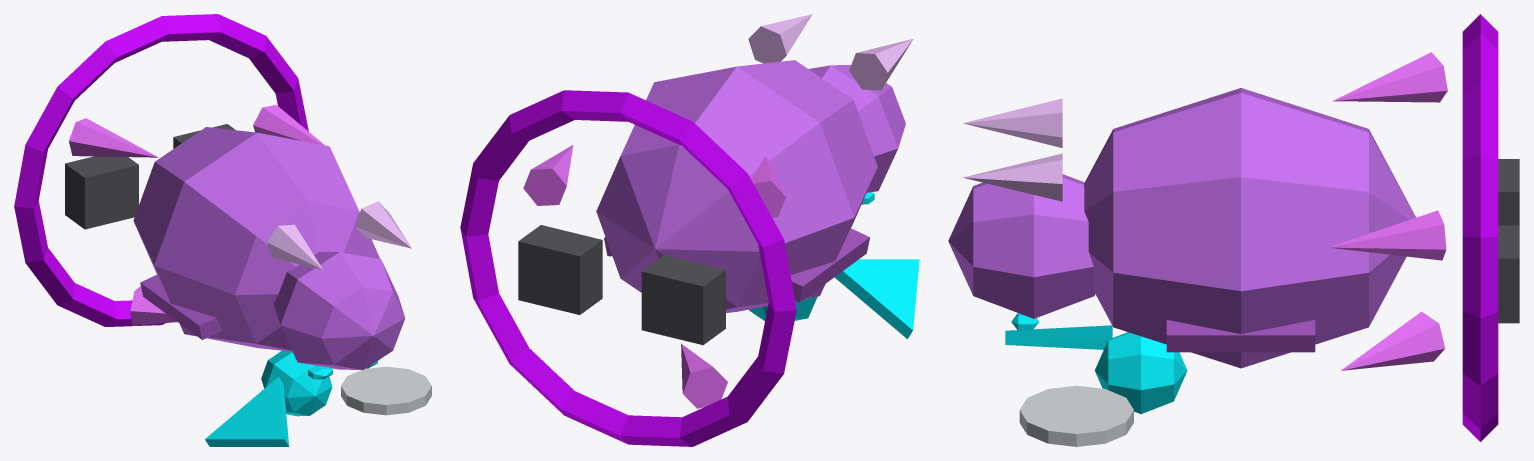
File: TD_Enemy_Learner_Chaos.fbx
3 renders of one model, left to right at view 1: azimuth 30°, elevation 25°; view 2: azimuth 150°, elevation 25°; view 3: azimuth 270°, elevation 25°, orthographic. The views are drawn at different scales.
Parts seen in each view (by area): view 1: TD_Enemy_Learner_Chaos_Body, TD_Enemy_Learner_Chaos_ChaosAura_Ring, TD_Enemy_Learner_Chaos_Head, TD_Enemy_Learner_Chaos_Foot_Left, TD_Enemy_Learner_Chaos_AnalyzeSymbol_Circle, TD_Enemy_Learner_Chaos_AnalyzeSymbol_Triangle, TD_Enemy_Learner_Chaos_AnalysisCore, TD_Enemy_Learner_Chaos_ChaosFlameWisp_02, TD_Enemy_Learner_Chaos_ChaosAccent_01, TD_Enemy_Learner_Chaos_ChaosEnergySpike_01, TD_Enemy_Learner_Chaos_ChaosEnergySpike_02, TD_Enemy_Learner_Chaos_ChaosFlameWisp_01 (+1 smaller); view 2: TD_Enemy_Learner_Chaos_Body, TD_Enemy_Learner_Chaos_ChaosAura_Ring, TD_Enemy_Learner_Chaos_Foot_Left, TD_Enemy_Learner_Chaos_Foot_Right, TD_Enemy_Learner_Chaos_AnalyzeSymbol_Triangle, TD_Enemy_Learner_Chaos_Head, TD_Enemy_Learner_Chaos_ChaosAccent_01, TD_Enemy_Learner_Chaos_ChaosFlameWisp_03, TD_Enemy_Learner_Chaos_ChaosFlameWisp_01, TD_Enemy_Learner_Chaos_ChaosEnergySpike_01, TD_Enemy_Learner_Chaos_ChaosEnergySpike_02, TD_Enemy_Learner_Chaos_ChaosFlameWisp_02 (+1 smaller); view 3: TD_Enemy_Learner_Chaos_Body, TD_Enemy_Learner_Chaos_Head, TD_Enemy_Learner_Chaos_ChaosAura_Ring, TD_Enemy_Learner_Chaos_AnalyzeSymbol_Circle, TD_Enemy_Learner_Chaos_AnalysisCore, TD_Enemy_Learner_Chaos_ChaosAccent_02, TD_Enemy_Learner_Chaos_ChaosFlameWisp_02, TD_Enemy_Learner_Chaos_ChaosFlameWisp_01, TD_Enemy_Learner_Chaos_ChaosFlameWisp_03, TD_Enemy_Learner_Chaos_ChaosEnergySpike_01, TD_Enemy_Learner_Chaos_ChaosEnergySpike_02, TD_Enemy_Learner_Chaos_Foot_Right (+2 smaller).
Boxes of the visible parts, x1,y1,x2,y2 form: TD_Enemy_Learner_Chaos_Body: [133, 127, 379, 351]; TD_Enemy_Learner_Chaos_ChaosAura_Ring: [14, 14, 308, 326]; TD_Enemy_Learner_Chaos_Head: [273, 251, 405, 369]; TD_Enemy_Learner_Chaos_Foot_Left: [65, 156, 138, 229]; TD_Enemy_Learner_Chaos_AnalyzeSymbol_Circle: [341, 366, 431, 415]; TD_Enemy_Learner_Chaos_AnalyzeSymbol_Triangle: [205, 377, 289, 446]; TD_Enemy_Learner_Chaos_AnalysisCore: [261, 350, 332, 416]; TD_Enemy_Learner_Chaos_ChaosFlameWisp_02: [69, 118, 158, 157]; TD_Enemy_Learner_Chaos_ChaosAccent_01: [140, 274, 221, 339]; TD_Enemy_Learner_Chaos_ChaosEnergySpike_01: [267, 224, 322, 269]; TD_Enemy_Learner_Chaos_ChaosEnergySpike_02: [355, 201, 411, 248]; TD_Enemy_Learner_Chaos_ChaosFlameWisp_01: [253, 105, 324, 145]; TD_Enemy_Learner_Chaos_Body: [596, 60, 877, 312]; TD_Enemy_Learner_Chaos_ChaosAura_Ring: [460, 90, 796, 446]; TD_Enemy_Learner_Chaos_Foot_Left: [641, 255, 725, 345]; TD_Enemy_Learner_Chaos_Foot_Right: [518, 225, 602, 314]; TD_Enemy_Learner_Chaos_AnalyzeSymbol_Triangle: [834, 259, 919, 338]; TD_Enemy_Learner_Chaos_Head: [808, 65, 905, 192]; TD_Enemy_Learner_Chaos_ChaosAccent_01: [790, 228, 869, 302]; TD_Enemy_Learner_Chaos_ChaosFlameWisp_03: [681, 343, 727, 408]; TD_Enemy_Learner_Chaos_ChaosFlameWisp_01: [523, 145, 573, 205]; TD_Enemy_Learner_Chaos_ChaosEnergySpike_01: [849, 38, 913, 90]; TD_Enemy_Learner_Chaos_ChaosEnergySpike_02: [748, 14, 812, 63]; TD_Enemy_Learner_Chaos_ChaosFlameWisp_02: [751, 156, 785, 217]; TD_Enemy_Learner_Chaos_Body: [1084, 88, 1415, 368]; TD_Enemy_Learner_Chaos_Head: [948, 174, 1095, 318]; TD_Enemy_Learner_Chaos_ChaosAura_Ring: [1462, 14, 1498, 441]; TD_Enemy_Learner_Chaos_AnalyzeSymbol_Circle: [1019, 385, 1133, 446]; TD_Enemy_Learner_Chaos_AnalysisCore: [1094, 332, 1187, 413]; TD_Enemy_Learner_Chaos_ChaosAccent_02: [1166, 320, 1315, 352]; TD_Enemy_Learner_Chaos_ChaosFlameWisp_02: [1332, 52, 1447, 102]; TD_Enemy_Learner_Chaos_ChaosFlameWisp_01: [1328, 210, 1446, 260]; TD_Enemy_Learner_Chaos_ChaosFlameWisp_03: [1340, 311, 1445, 370]; TD_Enemy_Learner_Chaos_ChaosEnergySpike_01: [963, 98, 1062, 147]; TD_Enemy_Learner_Chaos_ChaosEnergySpike_02: [963, 153, 1062, 201]; TD_Enemy_Learner_Chaos_Foot_Right: [1498, 225, 1519, 323].
Size of the model in its own units: 0.6 by 0.6 by 0.8.
